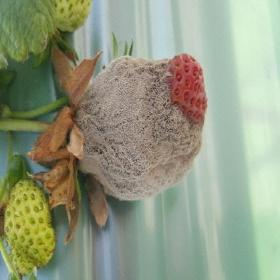Gray Mold: (71, 54, 205, 202)
